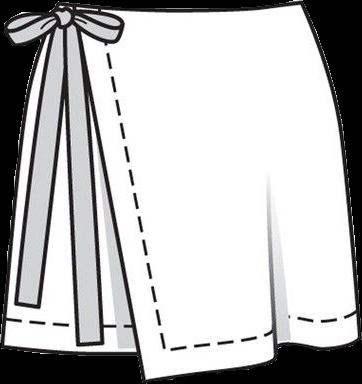Hemline: (73, 6, 361, 383), (1, 342, 141, 356)
Waistline: (55, 0, 304, 14)
